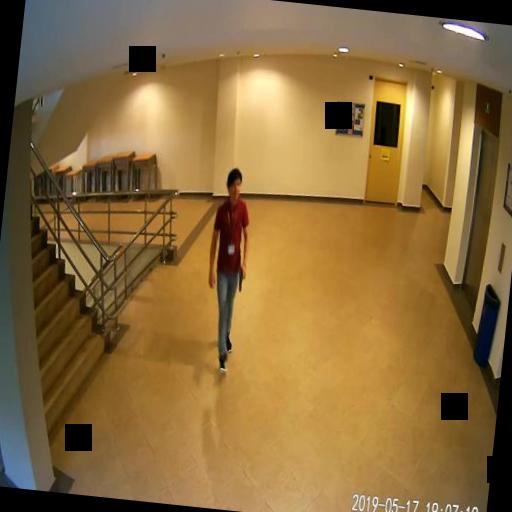Handgun: (236, 266, 244, 290)
